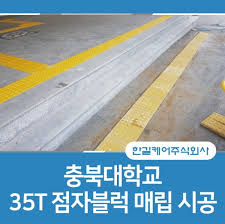guide_blocks: (53, 43, 102, 72), (1, 54, 50, 79), (127, 88, 169, 117), (158, 60, 190, 88), (175, 33, 208, 60), (98, 121, 142, 139), (101, 29, 138, 45), (1, 18, 44, 31)
